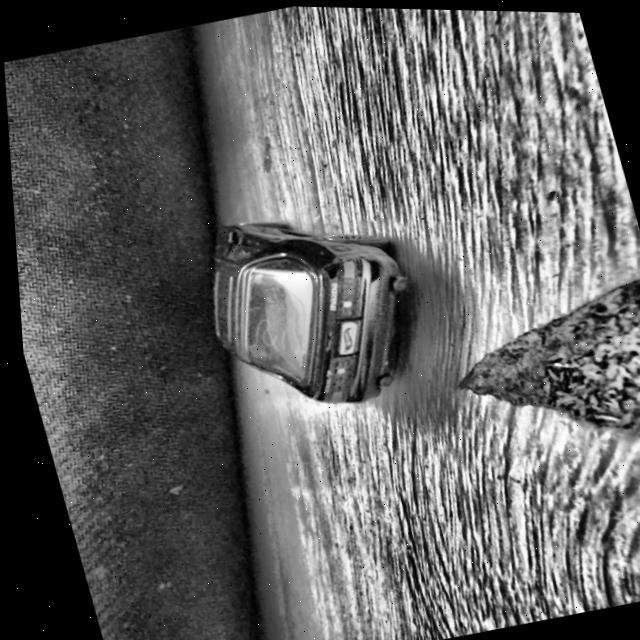car: (181, 187, 434, 428)
